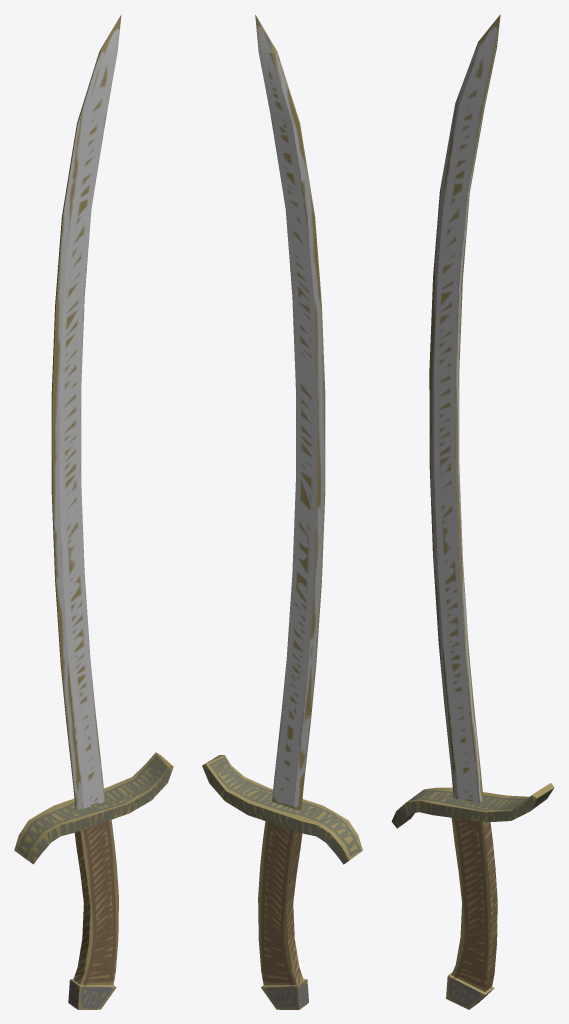
The model's file is 2hand_cutlass.glb.
The picture shows the model from 3 angles, left to right: view 1: azimuth 30°, elevation 25°; view 2: azimuth 150°, elevation 25°; view 3: azimuth 330°, elevation 25°; orthographic projection.
Visible parts, largest first — view 1: Cube; view 2: Cube; view 3: Cube.
Part boxes in pixels (<box>): Cube: <box>14,14,173,1009</box>; Cube: <box>202,15,362,1009</box>; Cube: <box>391,14,554,1009</box>.
Size of the model in its own units: 0.737 by 4.72 by 0.1863.
1 material, 1 textured.
